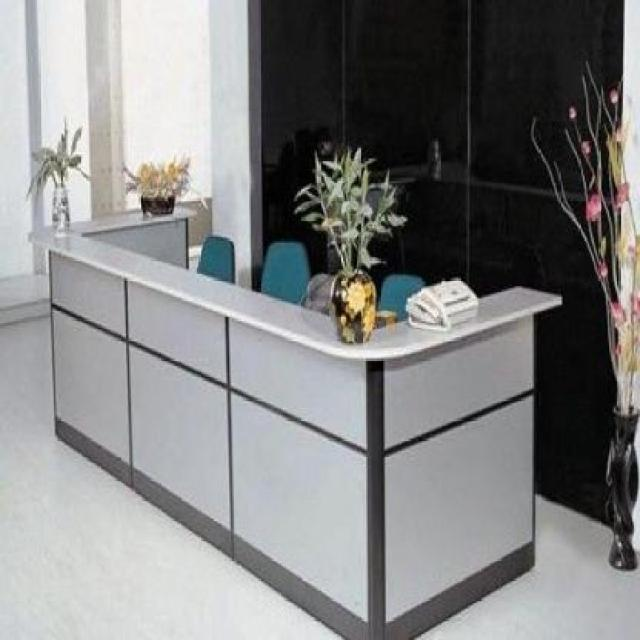frontdesk: (15, 192, 568, 640)
